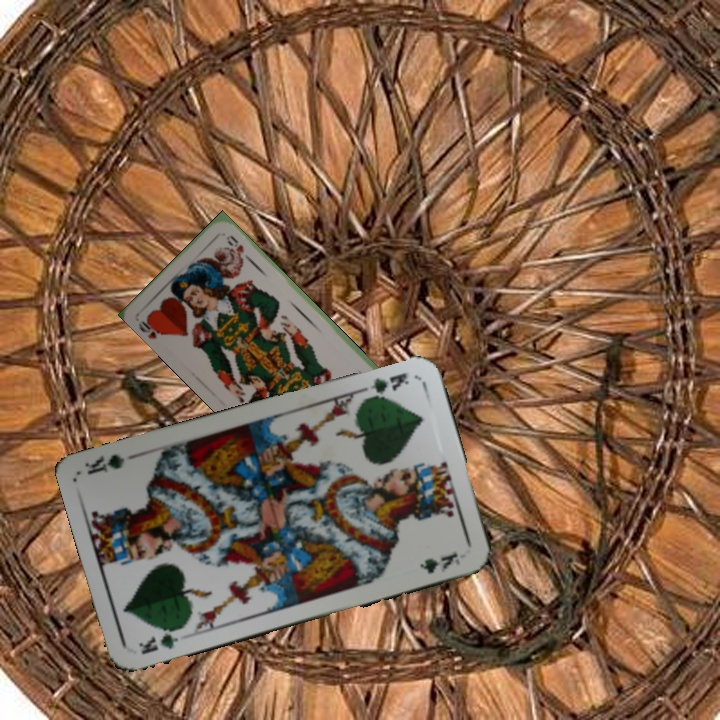GK: (135, 622, 186, 658), (358, 368, 412, 402)
HO: (134, 312, 170, 341)
